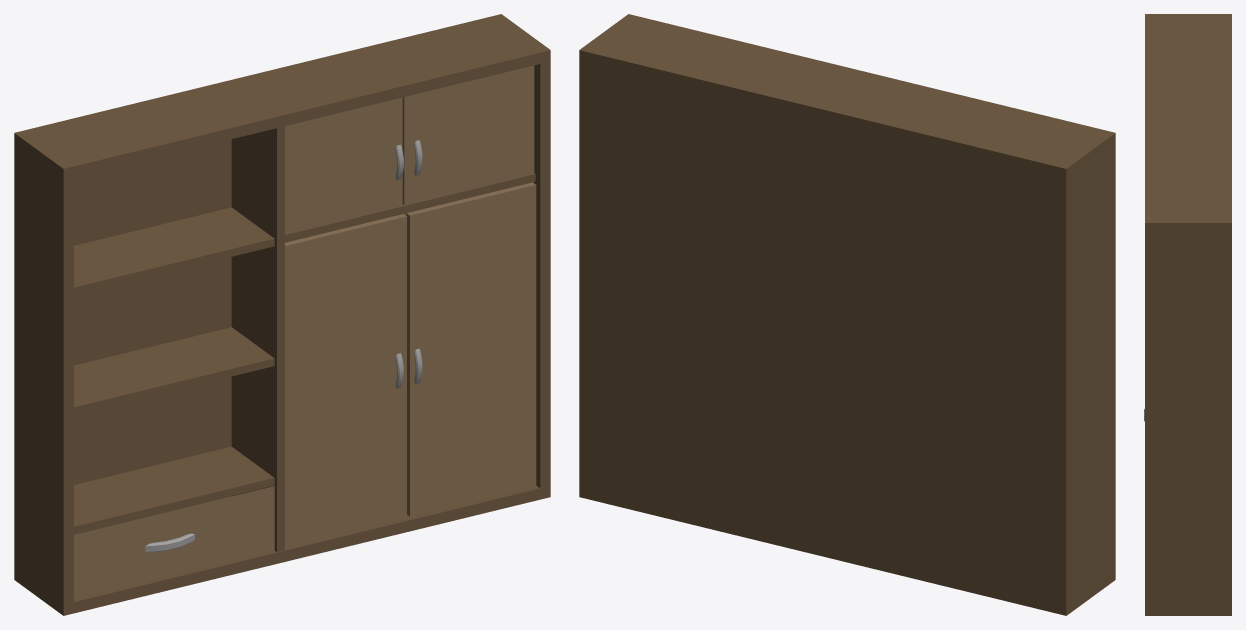
File: closet02.gltf
3 renders of one model, left to right at view 1: azimuth 30°, elevation 25°; view 2: azimuth 150°, elevation 25°; view 3: azimuth 270°, elevation 25°, orthographic. The views are drawn at different scales.
Visible parts, largest first — view 1: SM_Closet_02; view 2: SM_Closet_02; view 3: SM_Closet_02.
Boxes of the visible parts, x1,y1,x2,y2 form: SM_Closet_02: (14,14,550,615); SM_Closet_02: (579,14,1115,615); SM_Closet_02: (1144,14,1231,615).
Size of the model in its own units: 1.79 by 1.57 by 0.3184.
